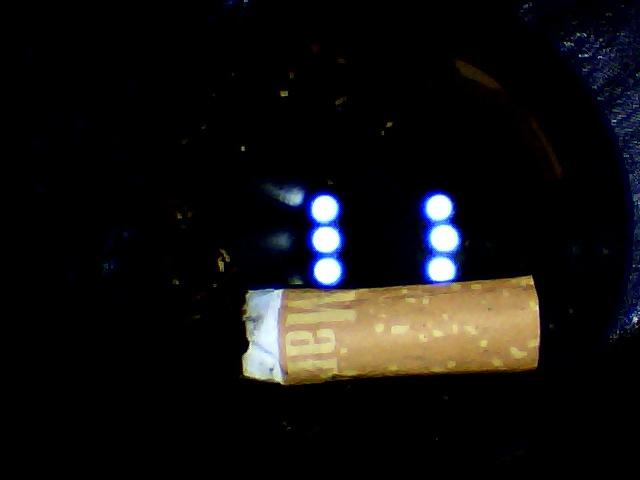megot: (223, 268, 558, 390)
